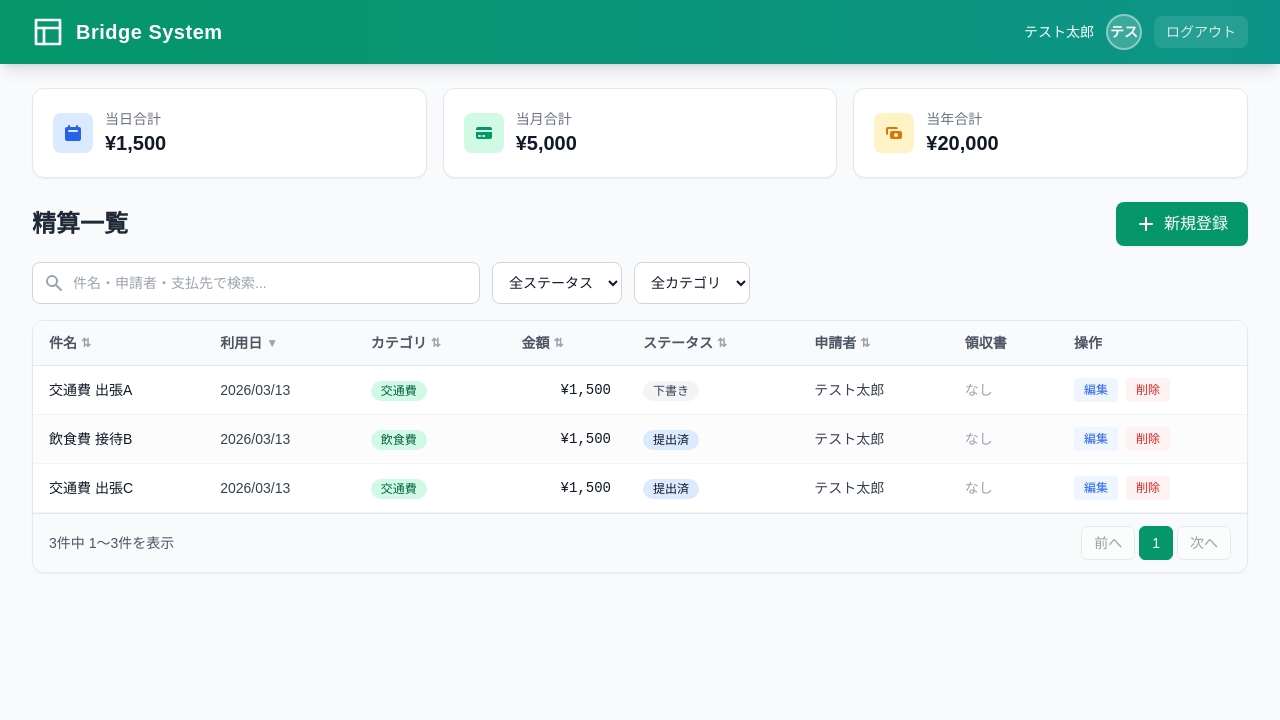
Test: ExpenseList › フィルター › テキスト検索で件名がフィルターされる
This screenshot has width=1280, height=720.
Type "接待B" into the search field with placeholder "件名・申請者・支払先で検索...".
click(256, 283); type("接待B")  # box x1=32 y1=262 x2=480 y2=304
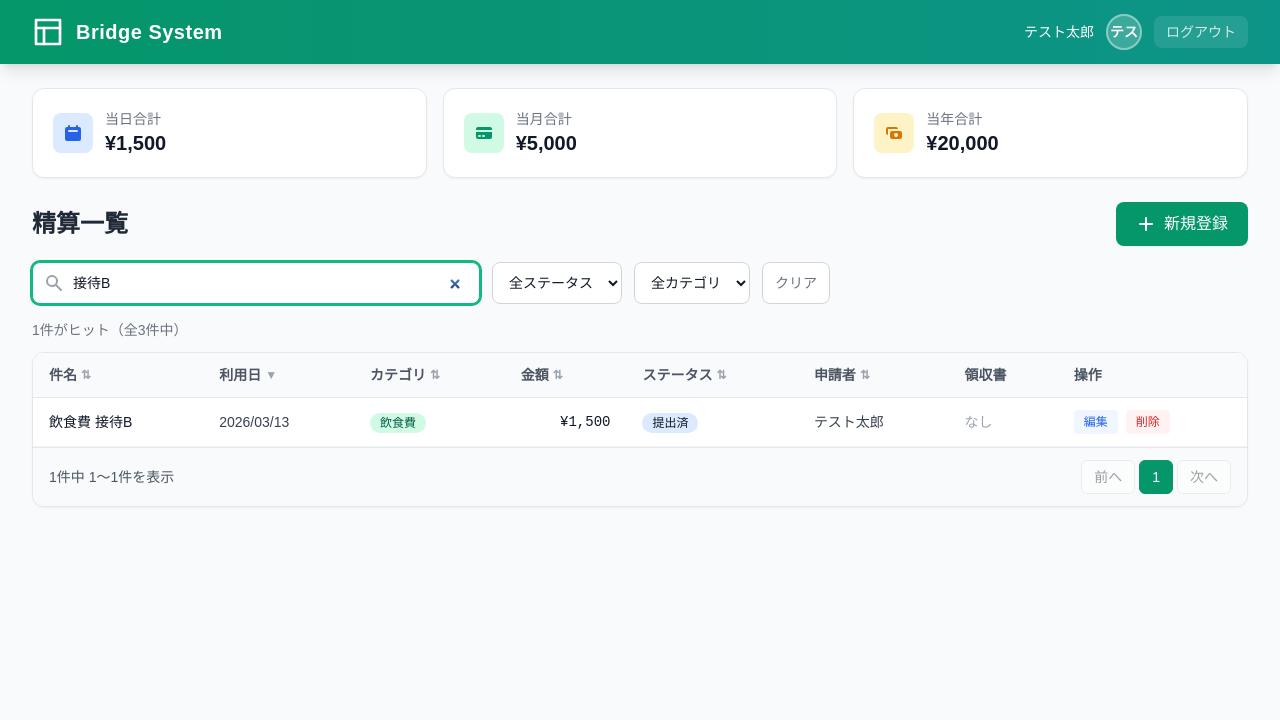
Expected: the text "飲食費 接待B" is shown, x1=33 y1=398 x2=203 y2=446
Expected: the text "交通費 出張A" is gone
